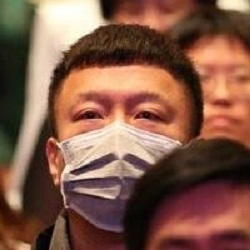mask: (57, 123, 185, 237)
